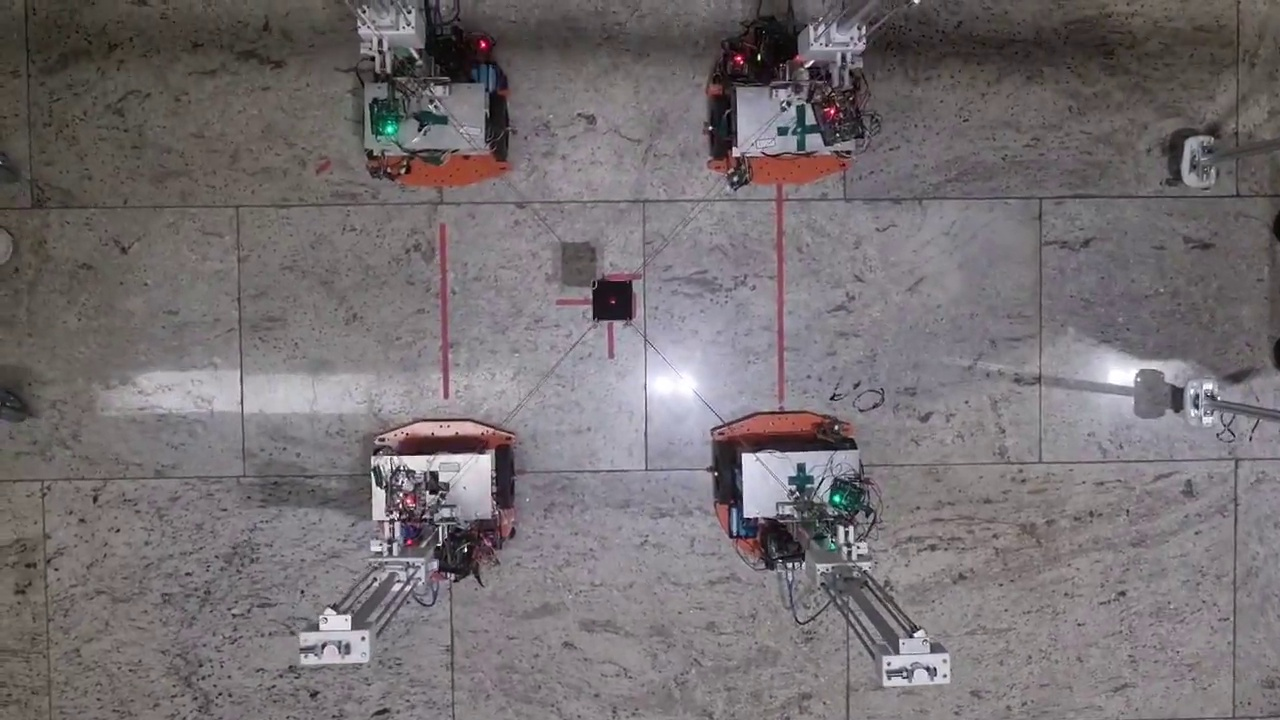e0: (593, 280, 634, 320)
r1: (714, 441, 858, 503)
r2: (708, 94, 863, 157)
r3: (363, 87, 509, 162)
r4: (371, 445, 515, 511)
y_+_axis_vector: (646, 462, 1041, 469)
y_-_axis_vector: (243, 470, 647, 475)
